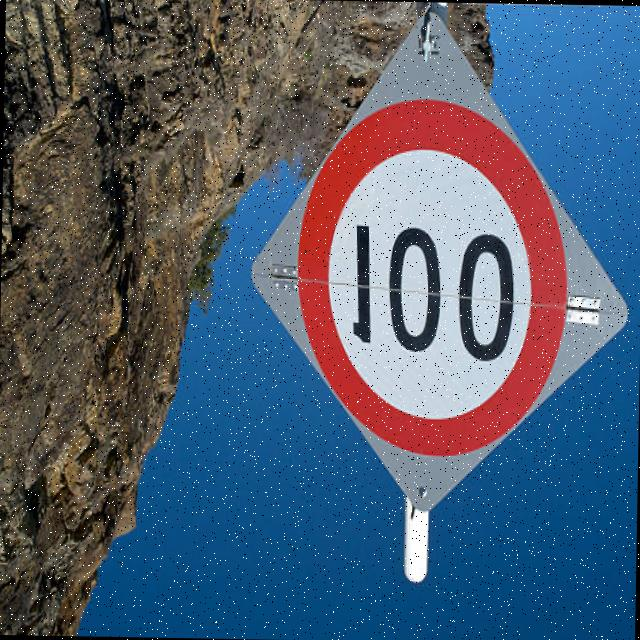speed_limit_100: (290, 97, 571, 458)
